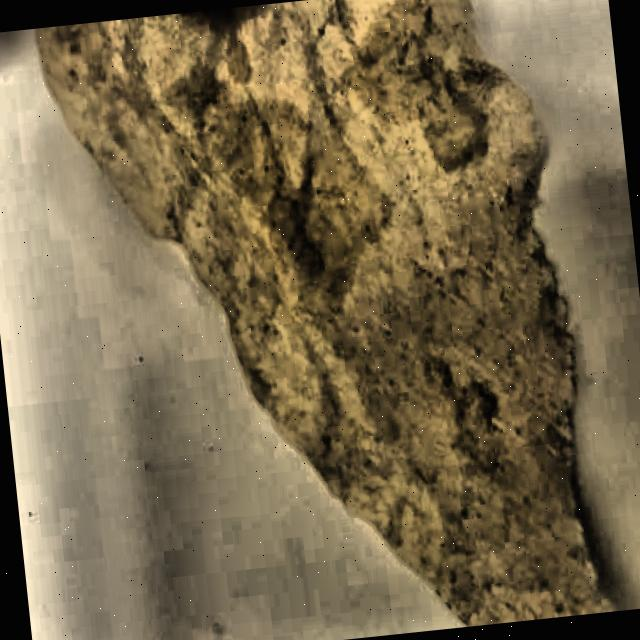trash: (52, 0, 640, 640)
